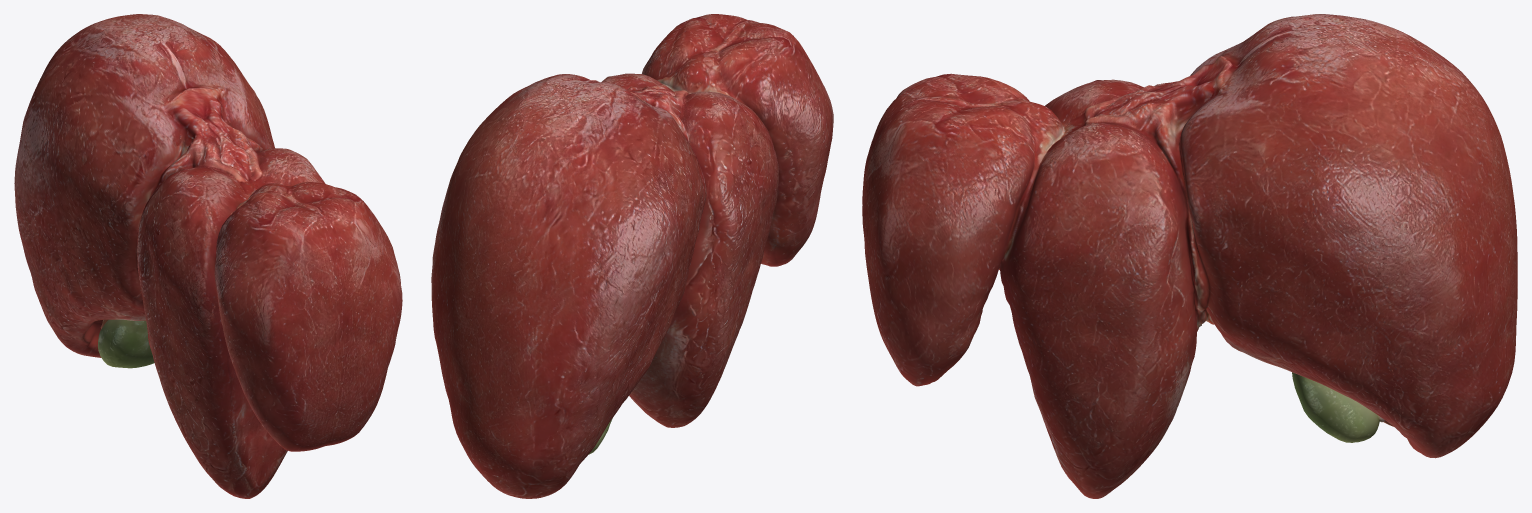
File: Galblader.glb
3 renders of one model, left to right at view 1: azimuth 30°, elevation 25°; view 2: azimuth 150°, elevation 25°; view 3: azimuth 270°, elevation 25°, orthographic. The views are drawn at different scales.
Visible parts, largest first — view 1: model; view 2: model; view 3: model.
Boxes of the visible parts, x1=… form: model: x1=14, y1=14, x2=402, y2=498; model: x1=431, y1=14, x2=833, y2=498; model: x1=862, y1=14, x2=1517, y2=498.
Size of the model in its own units: 0.7816 by 1.49 by 1.9.
1 material, 1 textured.
